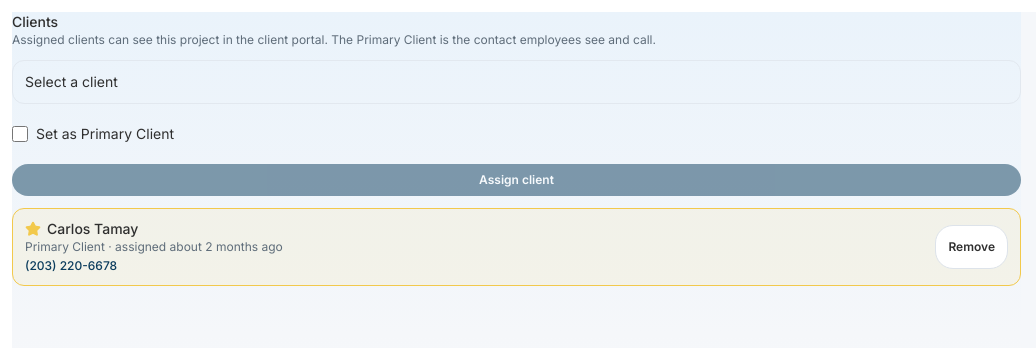
Scenario: ProjectClientsSection › B: selecting a second, unassigned client shows the "Set as Primary Client" checkbox
Select "Bona Kim (bona@example.com)" in the dropdown named "Select a client": (516, 82) [12, 60, 1021, 104]
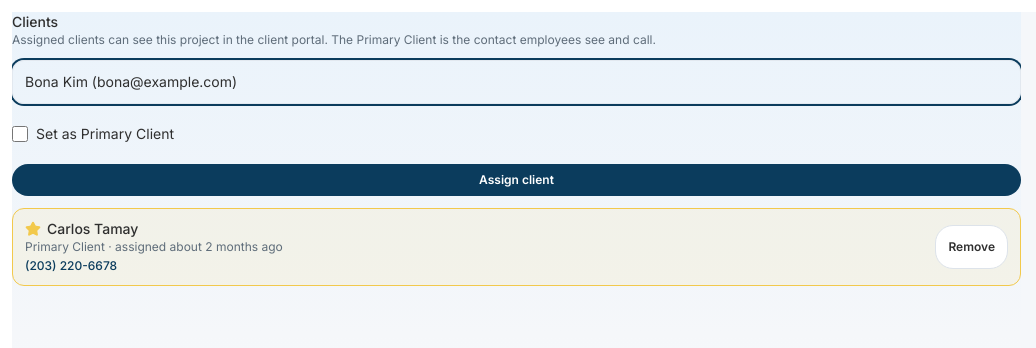
Expected: the checkbox labelled "Set as Primary Client" is shown, [12, 126, 28, 142]
Result: the button "Assign client" is enabled at [12, 164, 1021, 196]
